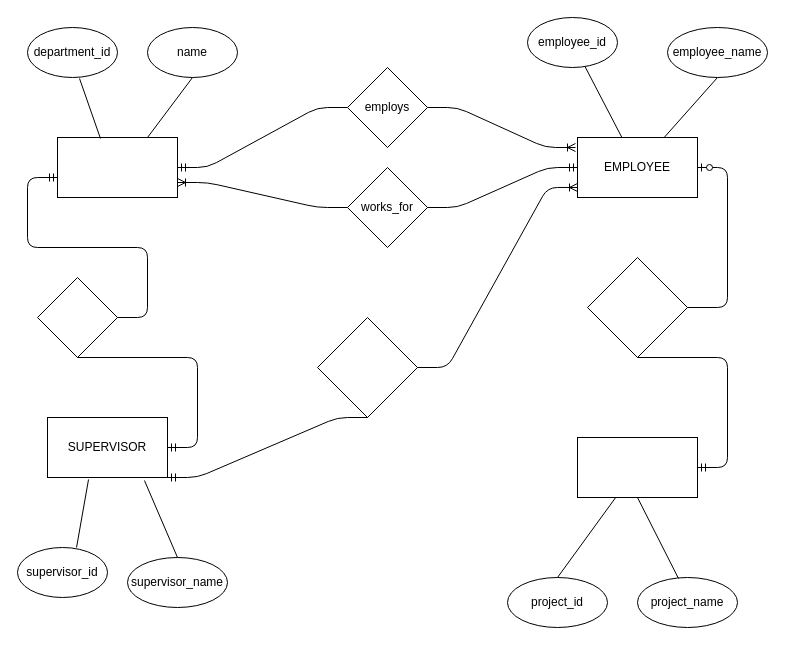
The diagram is 785 pixels wide and 645 high, and some of its shapes have lost their labels. The centre of each missing label's shape, as x and y in pixels:
"assigned_tasks" goes at pixel 367 367.
"DEPARTMENT" goes at pixel 117 167.
"Manages" goes at pixel 77 317.
"PROJECT" goes at pixel 637 467.
"works_on" goes at pixel 637 307.
